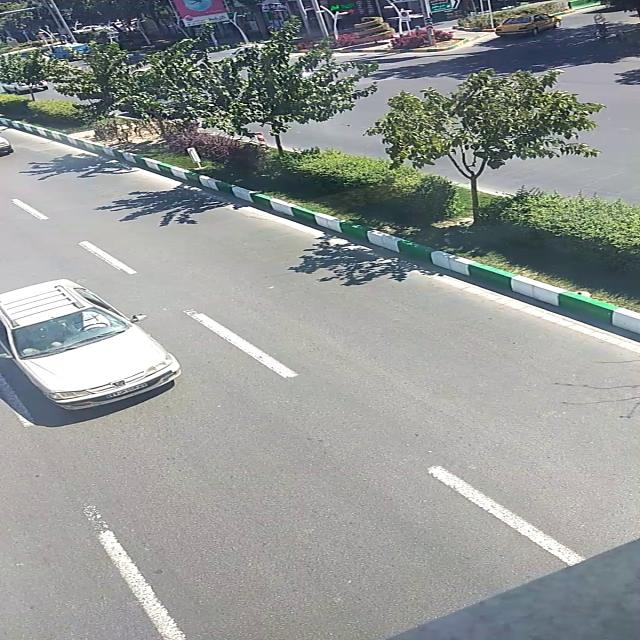car: (3, 277, 181, 411), (494, 14, 566, 40), (4, 78, 48, 94)
